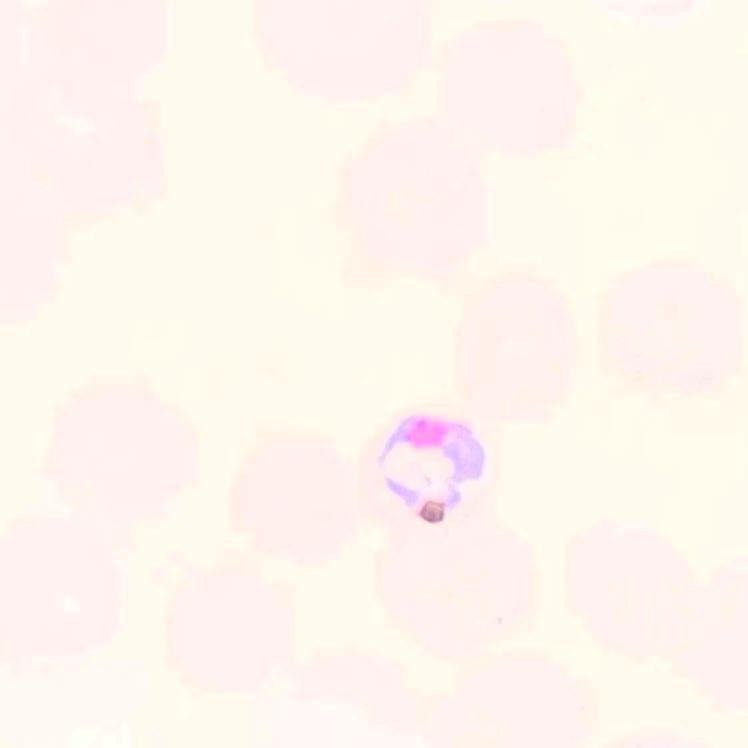Infected: (360, 403, 501, 524)
Uninfected: (336, 111, 495, 270), (432, 9, 578, 152), (42, 379, 193, 516), (378, 517, 526, 647), (606, 261, 742, 396), (566, 511, 689, 655), (250, 9, 442, 100), (458, 275, 577, 419), (162, 559, 287, 693), (232, 431, 361, 559)
